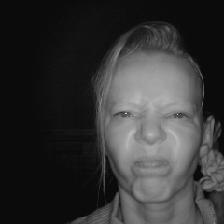sad: (86, 21, 216, 206)
